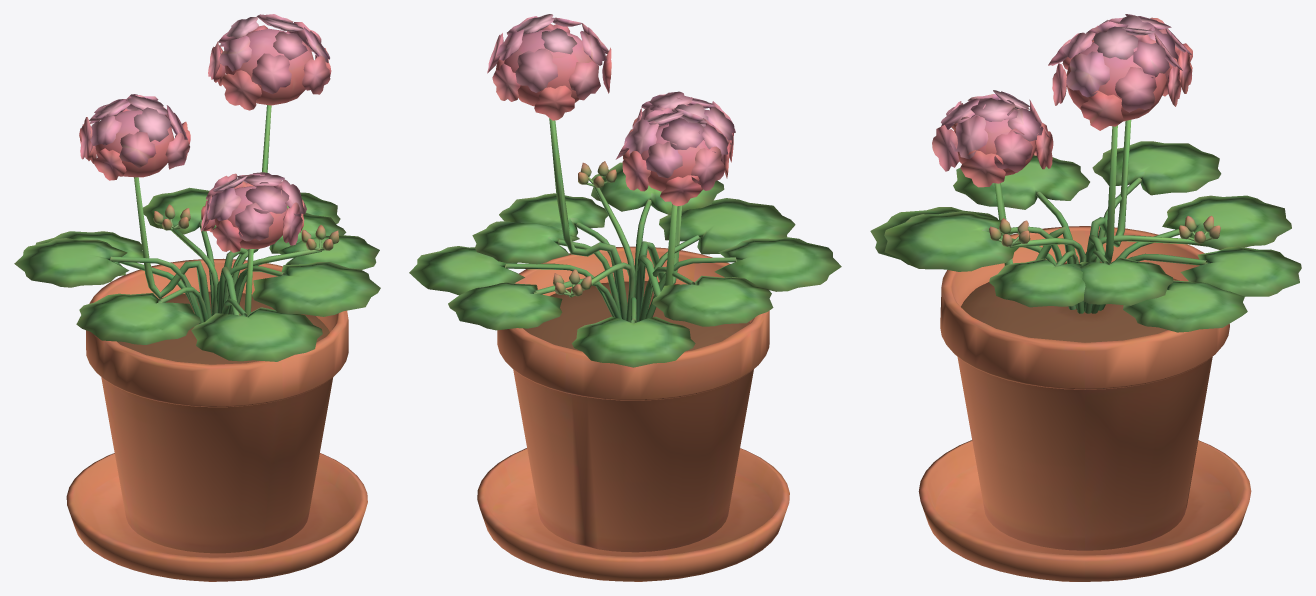
Rendered from flower-pot.glb.
The picture shows the model from 3 angles, left to right: view 1: azimuth 30°, elevation 25°; view 2: azimuth 150°, elevation 25°; view 3: azimuth 270°, elevation 25°; orthographic projection. The views are drawn at different scales.
Visible parts, largest first — view 1: flower-pot_body; view 2: flower-pot_body; view 3: flower-pot_body.
Boxes of the visible parts, left/top/right/bottom form: flower-pot_body: left=14, top=14, right=380, bottom=581; flower-pot_body: left=409, top=14, right=841, bottom=581; flower-pot_body: left=870, top=14, right=1301, bottom=581.
Size of the model in its own units: 0.2501 by 0.3544 by 0.2622.
1 material, 1 textured.
